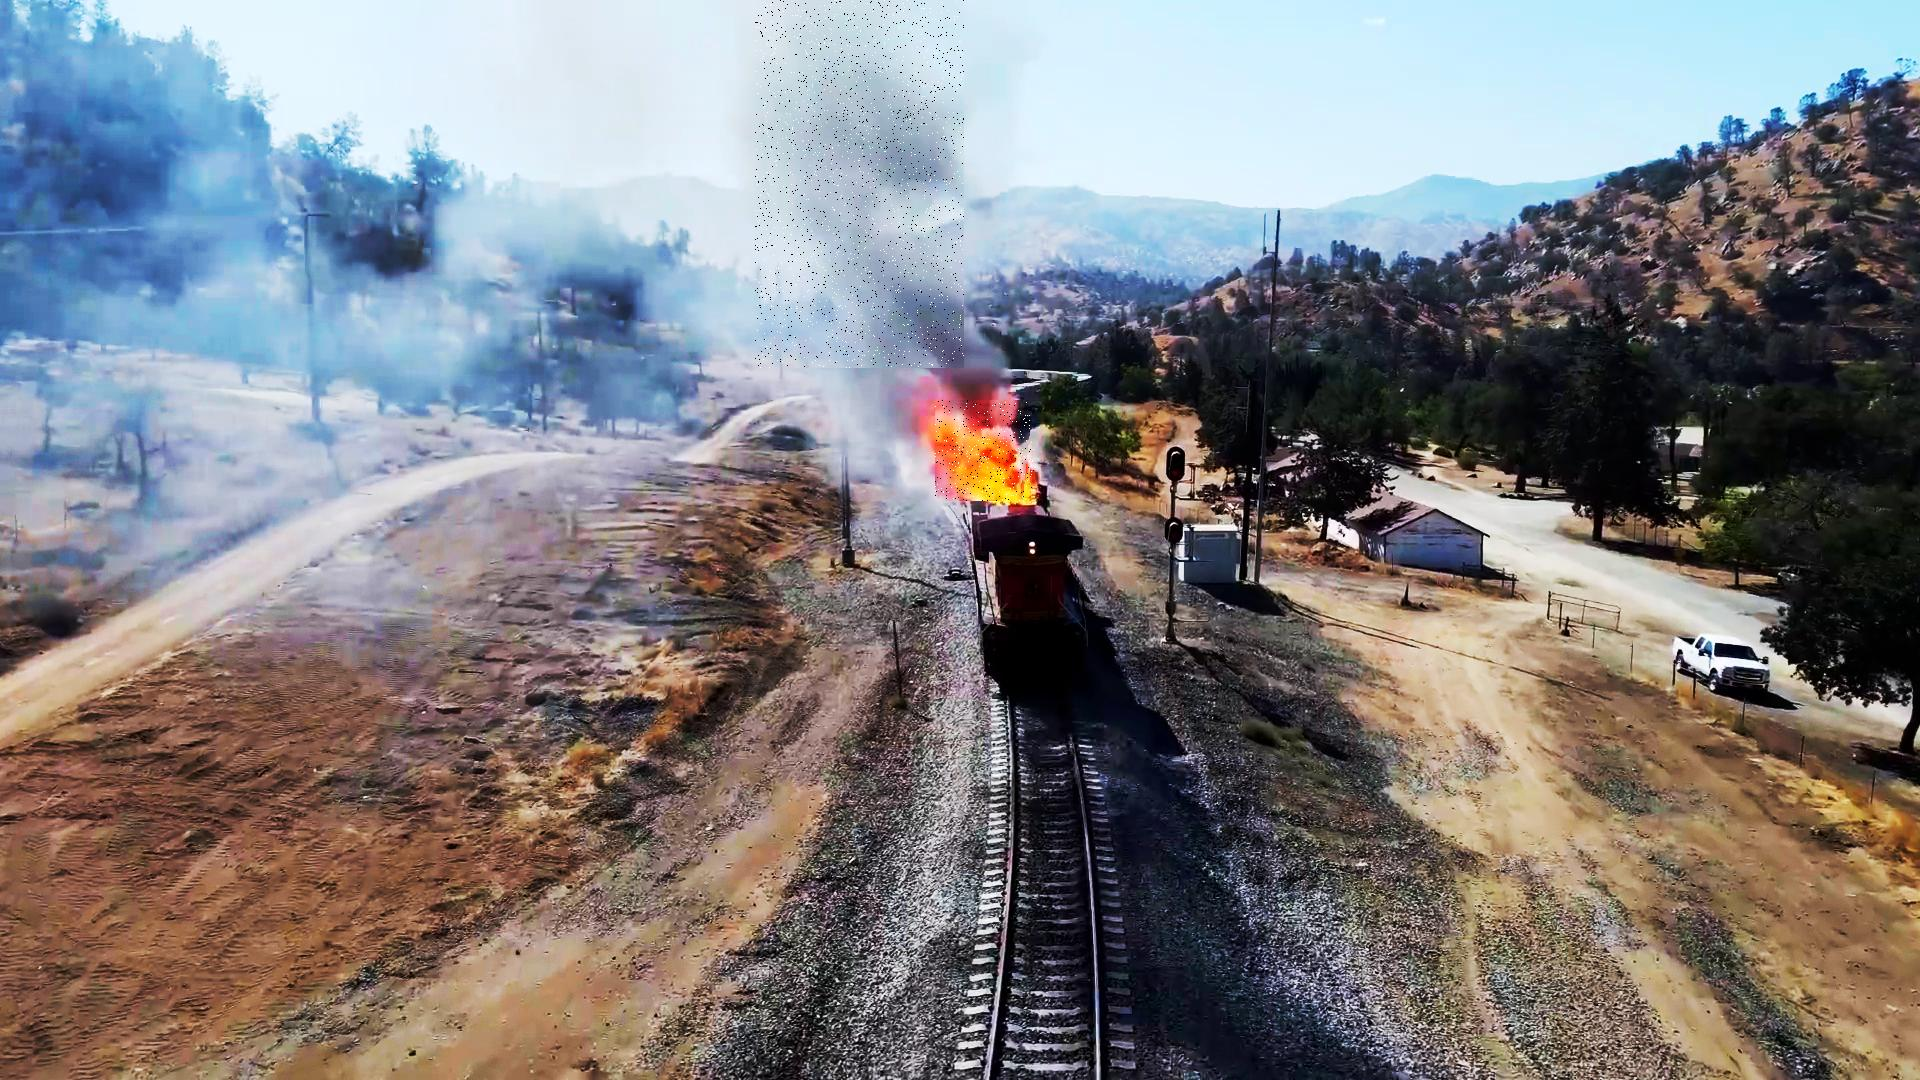fire: (936, 400, 1035, 501)
smoke: (755, 0, 964, 368)
